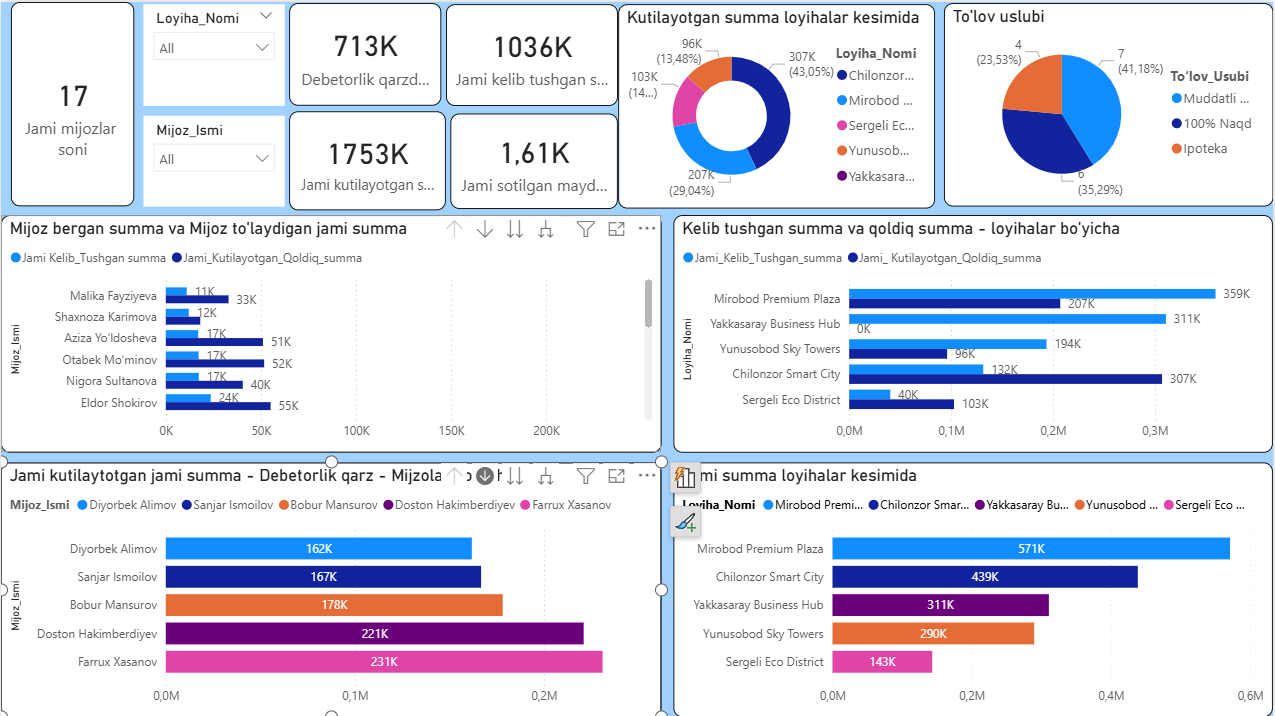

This screenshot's page, from the dashboard's own definition file:
{"tool":"powerbi","page":{"name":"Mijozlar","canvas":[1280,720],"ordinal":1},"visuals":[{"type":"card","fields":{"Values":["CountNonNull(Mijozlar_CRM.Mijoz_ID)"]},"box":[10,0,177.8,205.6],"z":0},{"type":"slicer","fields":{"Values":["Mijozlar_CRM.Mijoz_Ismi"]},"box":[197.1,121.3,141.5,83.9],"z":1000},{"type":"pieChart","title":"To''lov uslubi","fields":{"Category":["Shartnomalar_Savdo.Toʻlov_Usubi"],"Y":["CountNonNull(Shartnomalar_Savdo.Toʻlov_Usubi)"]},"box":[785.6,1.1,494.4,204.4],"z":2000},{"type":"clusteredBarChart","title":"Mijoz bergan summa va Mijoz to''laydigan jami summa","fields":{"Category":["Mijozlar_CRM.Mijoz_Ismi","Shartnomalar_Savdo.Loyiha_Nomi"],"Y":["Sum(Toʻlovlar_Tushumi.Kelib_Tushgan_USD)","Sum(Toʻlovlar_Tushumi.Kutilayotgan_Qoldiq_USD)"]},"box":[0,214.4,664.4,238.9],"z":3000},{"type":"barChart","title":"Jami kutilaytotgan jami summa - Debetorlik qarz - Mijzolar bo''yicha","fields":{"Y":["Sum(Shartnomalar_Savdo.Jami_Qiymati_USD)"],"Category":["Mijozlar_CRM.Mijoz_Ismi","Shartnomalar_Savdo.Loyiha_Nomi"],"Series":["Mijozlar_CRM.Mijoz_Ismi"]},"box":[0,463.3,664.4,256.7],"z":4000},{"type":"donutChart","title":"Kutilayotgan summa loyihalar kesimida","fields":{"Y":["Sum(Toʻlovlar_Tushumi.Kutilayotgan_Qoldiq_USD)"],"Category":["Shartnomalar_Savdo.Loyiha_Nomi"]},"box":[355.6,0,420,205.6],"z":5000},{"type":"slicer","fields":{"Values":["Shartnomalar_Savdo.Loyiha_Nomi"]},"box":[197.1,1,141.5,102.1],"z":6000},{"type":"clusteredBarChart","title":"Kelib tushgan summa va qoldiq summa - loyihalar bo''yicha","fields":{"Category":["Shartnomalar_Savdo.Loyiha_Nomi"],"Y":["Sum(Toʻlovlar_Tushumi.Kelib_Tushgan_USD)","Sum(Toʻlovlar_Tushumi.Kutilayotgan_Qoldiq_USD)"]},"box":[676.7,214.4,603.3,238.9],"z":7000},{"type":"barChart","title":"Jami summa loyihalar kesimida","fields":{"Category":["Shartnomalar_Savdo.Loyiha_Nomi"],"Y":["Sum(Shartnomalar_Savdo.Jami_Qiymati_USD)"],"Series":["Shartnomalar_Savdo.Loyiha_Nomi"]},"box":[676.7,463.3,603.3,256.7],"z":8000}]}

Visuals, with their boxes in screenshot pixels (x1, y1, x2, y2), scaled from the page's 1280x720 canvas onto the 1275x716 screenshot:
card - CountNonNull(Mijozlar_CRM.Mijoz_ID): 10,0,187,204
slicer - Mijozlar_CRM.Mijoz_Ismi: 196,121,337,204
"To''lov uslubi" pieChart: 783,1,1274,204
"Mijoz bergan summa va Mijoz to''laydigan jami summa" clusteredBarChart: 0,213,662,451
"Jami kutilaytotgan jami summa - Debetorlik qarz - Mijzolar bo''yicha" barChart: 0,461,662,715
"Kutilayotgan summa loyihalar kesimida" donutChart: 354,0,773,204
slicer - Shartnomalar_Savdo.Loyiha_Nomi: 196,1,337,103
"Kelib tushgan summa va qoldiq summa - loyihalar bo''yicha" clusteredBarChart: 674,213,1274,451
"Jami summa loyihalar kesimida" barChart: 674,461,1274,715
